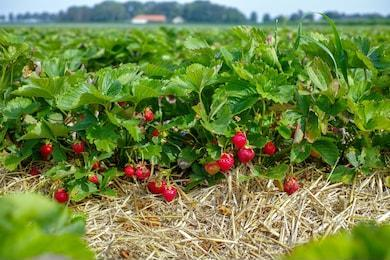Fresa: (282, 176, 299, 197), (216, 152, 234, 171), (134, 164, 152, 182), (161, 184, 178, 203), (70, 138, 87, 155)
